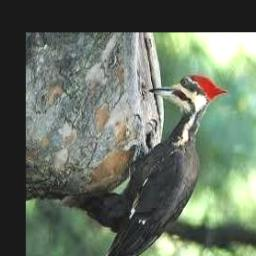Woodpecker: (87, 75, 227, 256)
